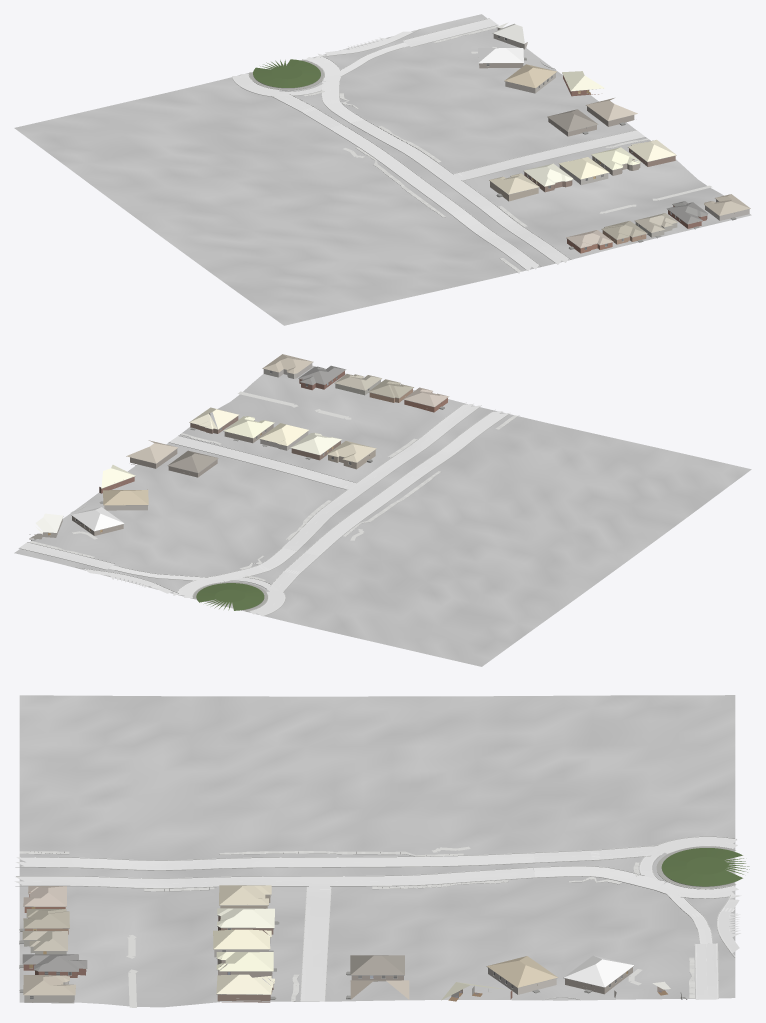
3 renders of one model, top to bottom at view 1: azimuth 30°, elevation 25°; view 2: azimuth 150°, elevation 25°; view 3: azimuth 270°, elevation 25°, orthographic. The views are drawn at different scales.
Parts seen in each view (by area): view 1: ground, asphalt, roof, detail, wall, curb, concrete, walk, mark_w, wall_stucco; view 2: ground, asphalt, roof, wall, detail, curb, concrete, walk, mark_w, wall_stucco; view 3: ground, asphalt, roof, curb, detail, concrete, walk, wall, mark_w, mark_y, wall_stucco, wall_stone.
Boxes of the visible parts, x1,y1,x2,y2 form: ground: (14,14,751,325); asphalt: (232,18,568,271); roof: (478,22,750,247); detail: (249,27,750,249); wall: (479,63,707,253); curb: (232,18,648,272); concrete: (453,130,644,180); walk: (304,26,712,272); mark_w: (233,24,569,268); wall_stucco: (493,28,677,237); ground: (14,365,751,666); asphalt: (19,403,510,616); roof: (35,354,448,534); wall: (72,371,447,535); detail: (29,362,448,611); curb: (19,402,519,616); concrete: (169,436,356,489); walk: (30,391,517,580); mark_w: (29,403,505,614); wall_stucco: (29,378,380,539); ground: (19,695,735,1007); asphalt: (14,837,741,999); roof: (22,885,670,1000); curb: (15,836,736,1000); detail: (19,846,749,999); concrete: (300,886,330,1001); walk: (19,846,694,1007); wall: (23,892,632,1002); mark_w: (17,837,734,999); mark_y: (18,845,735,998); wall_stucco: (24,940,616,997); wall_stone: (24,938,270,1003).
Bounding box in the file's own units: 257 × 9.85 × 258.
